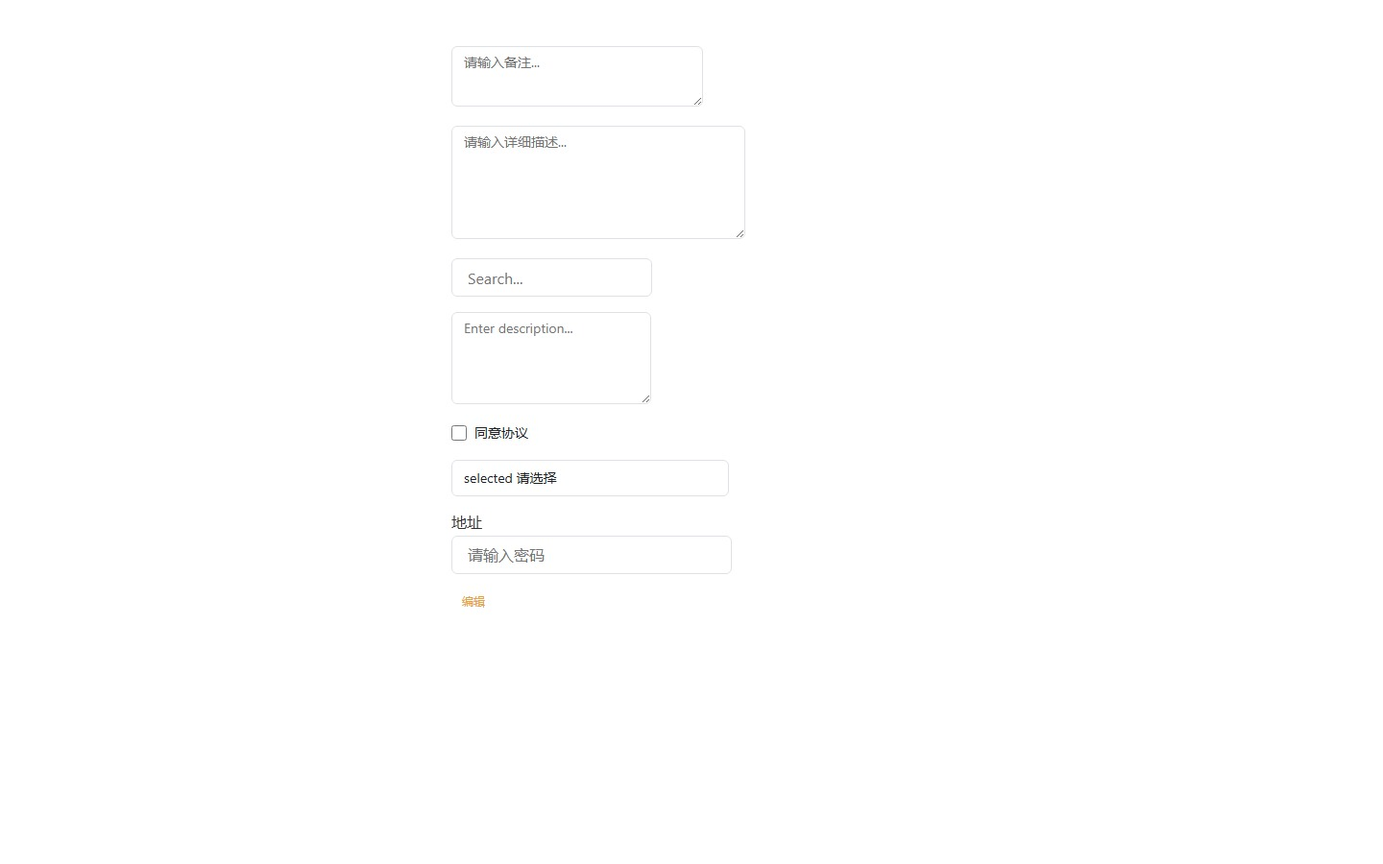button: (451, 590, 496, 611)
checkbox: (451, 425, 467, 440)
icon: (474, 423, 528, 442)
input: (451, 535, 732, 574), (451, 258, 652, 297)
radio: (451, 423, 528, 442)
select: (451, 459, 729, 496)
textarea: (451, 126, 745, 239), (451, 312, 651, 404), (451, 46, 703, 107)
